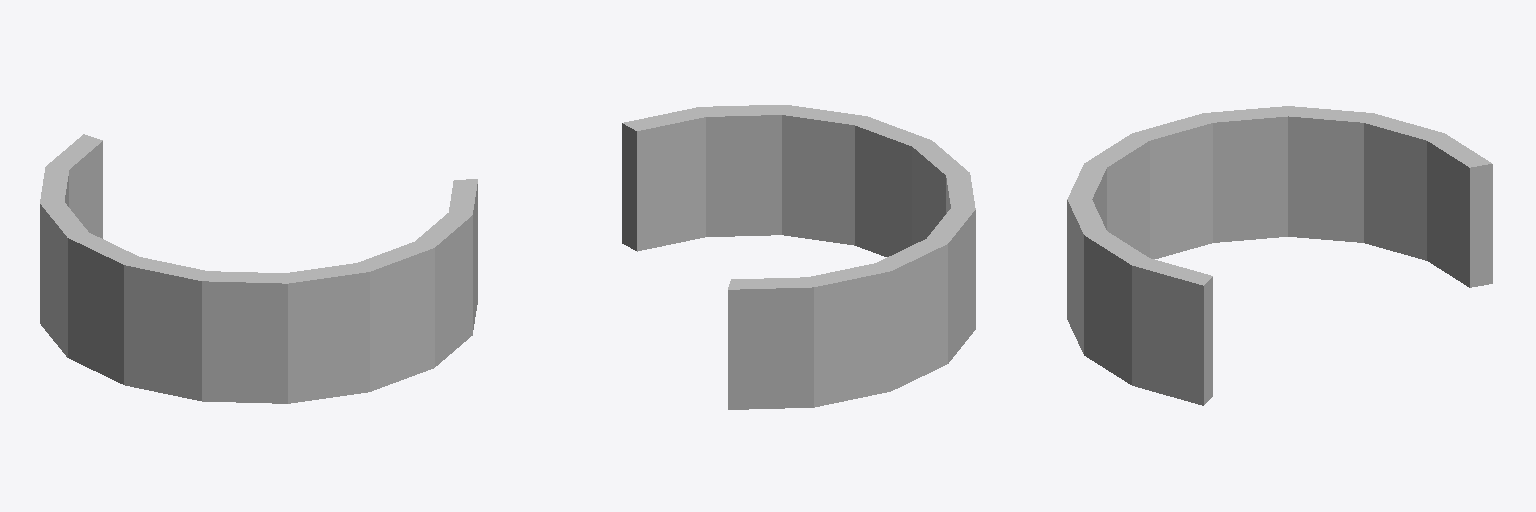
The model's file is bumper_cage.obj.
3 renders of one model, left to right at view 1: azimuth 30°, elevation 25°; view 2: azimuth 150°, elevation 25°; view 3: azimuth 270°, elevation 25°, orthographic.
Parts seen in each view (by area): view 1: Cylinder_Cylinder.001; view 2: Cylinder_Cylinder.001; view 3: Cylinder_Cylinder.001.
Part boxes in pixels (x1,y1,x2,y2): Cylinder_Cylinder.001: (40,134,477,403); Cylinder_Cylinder.001: (622,105,975,409); Cylinder_Cylinder.001: (1067,106,1492,405).
Size of the model in its own units: 1.92 by 0.6 by 1.92.